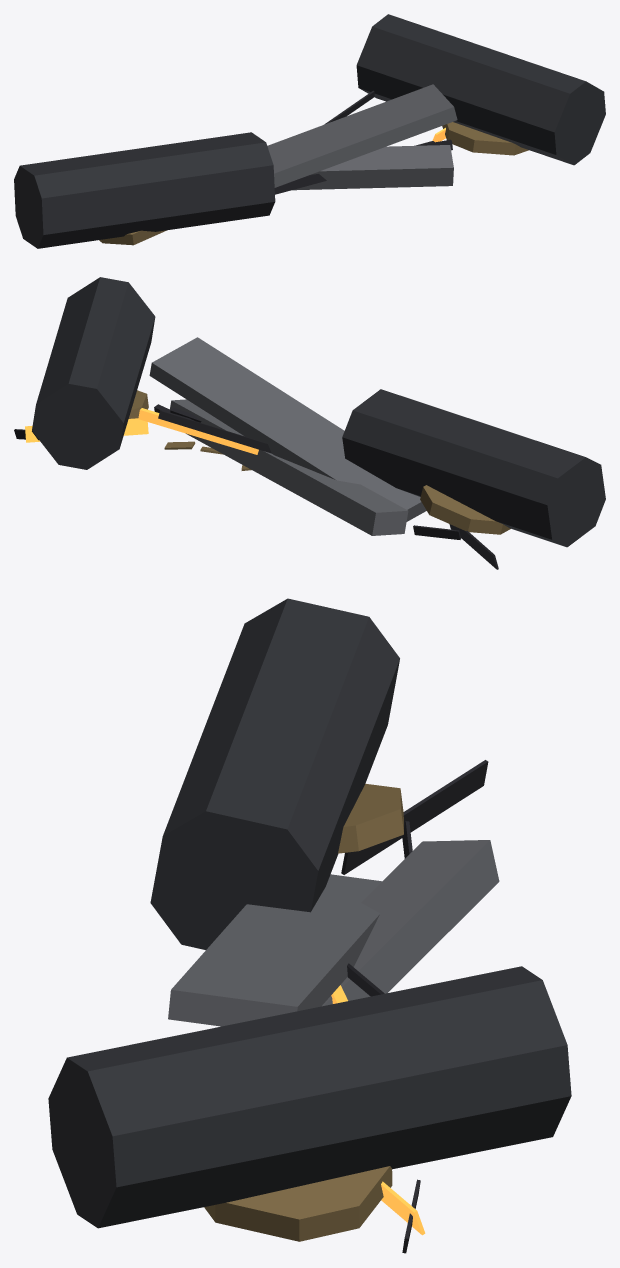
File: Wreck_Aegis_PulseGate.fbx
3 renders of one model, top to bottom at view 1: azimuth 30°, elevation 25°; view 2: azimuth 150°, elevation 25°; view 3: azimuth 270°, elevation 25°, orthographic. The views are drawn at different scales.
Parts seen in each view (by area): view 1: Wreck_Aegis_PulseGate; view 2: Wreck_Aegis_PulseGate; view 3: Wreck_Aegis_PulseGate.
Boxes of the visible parts, x1=… form: Wreck_Aegis_PulseGate: x1=14, y1=14, x2=605, y2=248; Wreck_Aegis_PulseGate: x1=14, y1=277, x2=605, y2=569; Wreck_Aegis_PulseGate: x1=48, y1=598, x2=571, y2=1253.
Bounding box in the file's own units: 3.24 × 0.5614 × 1.37.
